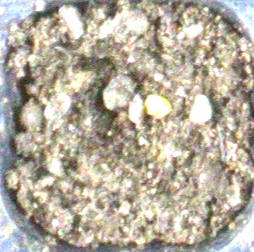pepper seed: (58, 35, 231, 153)
